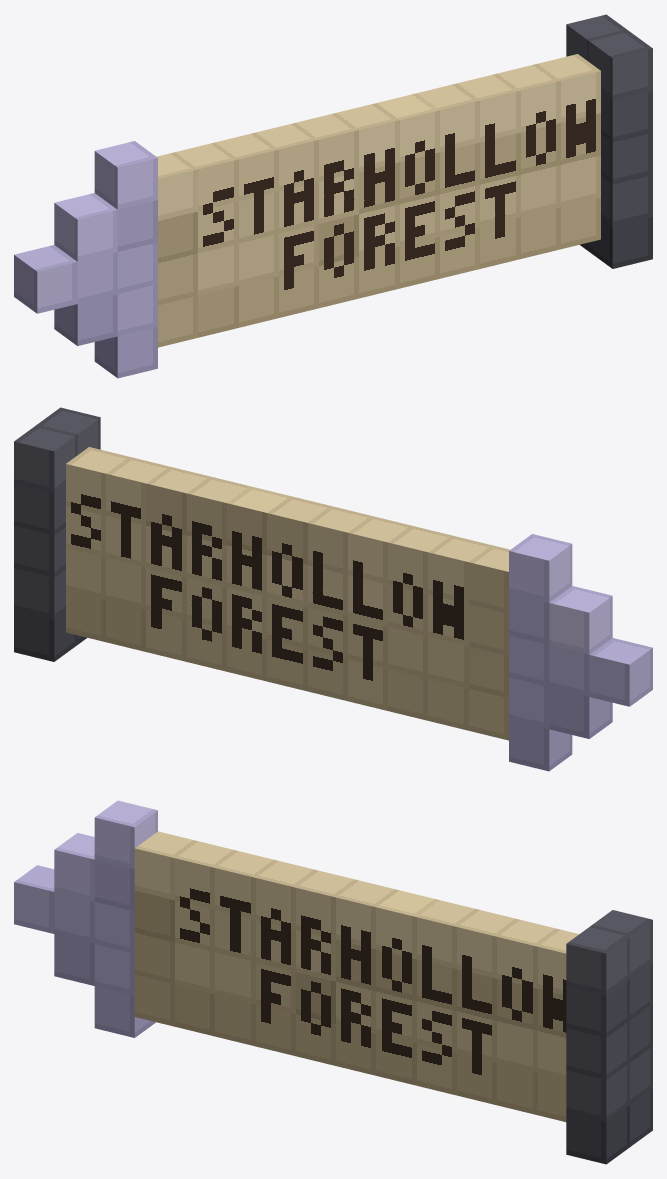
Rendered from SignArmHigh.glb.
3 renders of one model, top to bottom at view 1: azimuth 30°, elevation 25°; view 2: azimuth 150°, elevation 25°; view 3: azimuth 330°, elevation 25°, orthographic.
Parts seen in each view (by area): view 1: Body, Accessory, Trim; view 2: Body, Accessory, Trim; view 3: Body, Trim, Accessory.
Boxes of the visible parts, bbox=[...] form: Body: bbox=[157, 54, 600, 347]; Accessory: bbox=[14, 141, 157, 378]; Trim: bbox=[566, 14, 652, 268]; Body: bbox=[66, 447, 509, 740]; Accessory: bbox=[509, 534, 652, 771]; Trim: bbox=[14, 407, 100, 661]; Body: bbox=[134, 831, 578, 1121]; Trim: bbox=[566, 910, 652, 1164]; Accessory: bbox=[14, 800, 157, 1037].
Bounding box in the file's own units: 3.75 × 1.25 × 0.5.
Materials: 3 (3 with a texture image).
